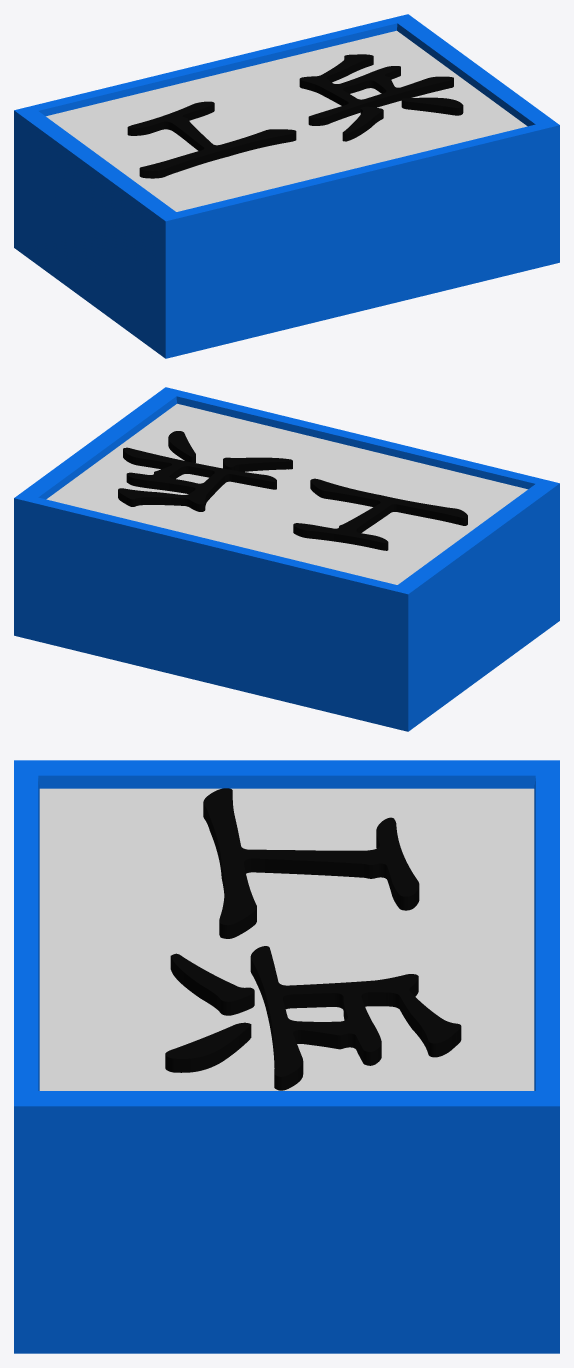
The model's file is 9_gong_bing.fbx.
The picture shows the model from 3 angles, top to bottom: view 1: azimuth 30°, elevation 25°; view 2: azimuth 150°, elevation 25°; view 3: azimuth 270°, elevation 25°; orthographic projection. The views are drawn at different scales.
Visible parts, largest first — view 1: Cube, 文本; view 2: Cube, 文本; view 3: Cube, 文本.
Boxes of the visible parts, box(x1,y1,x2,y2) form: Cube: box(14, 14, 559, 358); 文本: box(127, 54, 463, 178); Cube: box(14, 387, 559, 731); 文本: box(118, 431, 467, 550); Cube: box(14, 760, 559, 1353); 文本: box(165, 788, 461, 1090).
Size of the model in its own units: 240 by 80.47 by 160.
